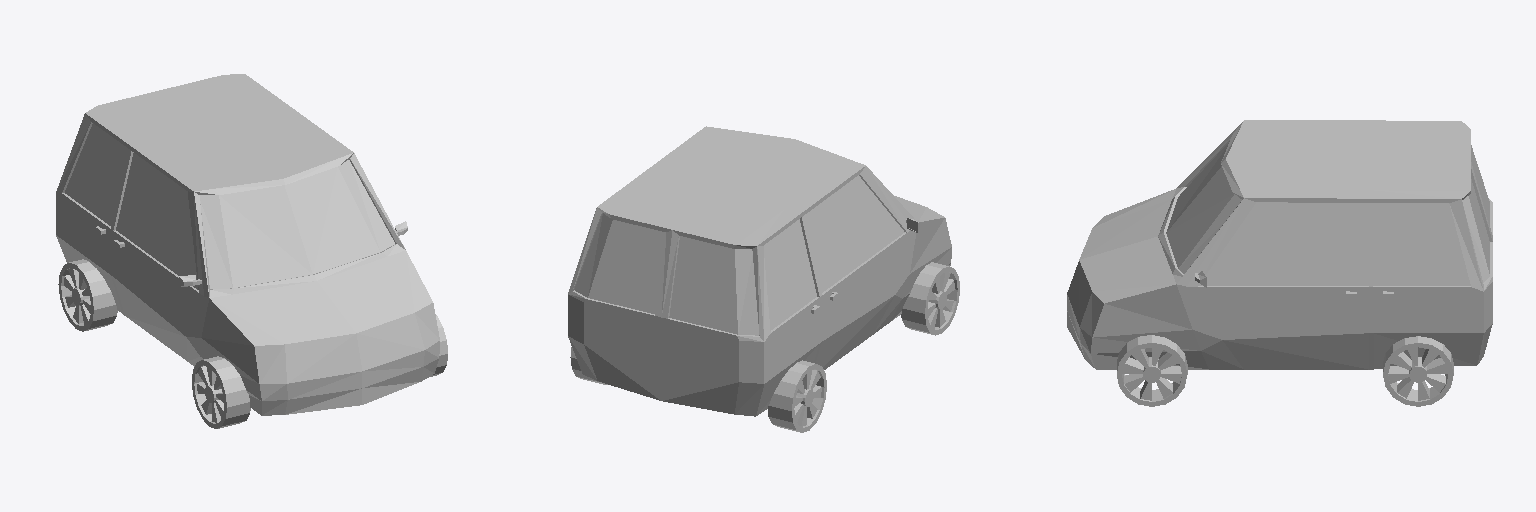
Rendered from car.obj.
3 renders of one model, left to right at view 1: azimuth 30°, elevation 25°; view 2: azimuth 150°, elevation 25°; view 3: azimuth 270°, elevation 25°, orthographic.
Visible parts, largest first — view 1: Cube, Cylinder; view 2: Cube, Cylinder; view 3: Cube, Cylinder.
Part boxes in pixels (x1,y1,x2,y2): Cube: (56, 74, 439, 415); Cylinder: (58, 259, 447, 428); Cube: (568, 126, 951, 416); Cylinder: (570, 262, 959, 432); Cube: (1067, 120, 1492, 369); Cylinder: (1117, 335, 1453, 406).
Bounding box in the file's own units: 1.85 × 1.51 × 3.